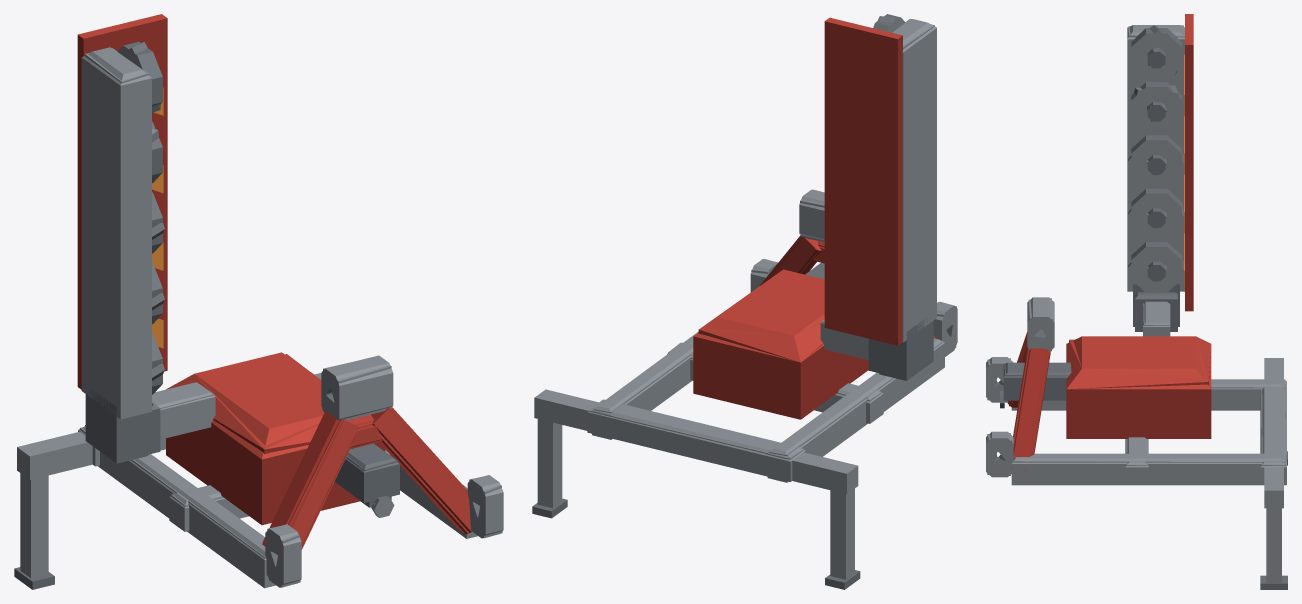
Rendered from FMS_Mach_Mower.fbx.
3 renders of one model, left to right at view 1: azimuth 30°, elevation 25°; view 2: azimuth 150°, elevation 25°; view 3: azimuth 270°, elevation 25°, orthographic. The views are drawn at different scales.
Visible parts, largest first — view 1: Frame, Bar, Frame_Low1, Bar_Low1; view 2: Frame, Bar, Frame_Low1; view 3: Frame, Bar, Frame_Low1, Bar_Low1.
Boxes of the visible parts, x1,y1,x2,y2 form: Frame: (14,352,503,589); Bar: (77,14,167,463); Frame_Low1: (17,354,502,587); Bar_Low1: (84,42,164,380); Frame: (532,189,957,589); Bar: (824,14,936,380); Frame_Low1: (534,189,956,579); Frame: (986,292,1287,589); Bar: (1127,14,1193,326); Frame_Low1: (987,292,1286,508); Bar_Low1: (1128,25,1184,292).
Bounding box in the file's own units: 1.6 × 2.5 × 1.54.
Materials: 1 (1 with a texture image).
